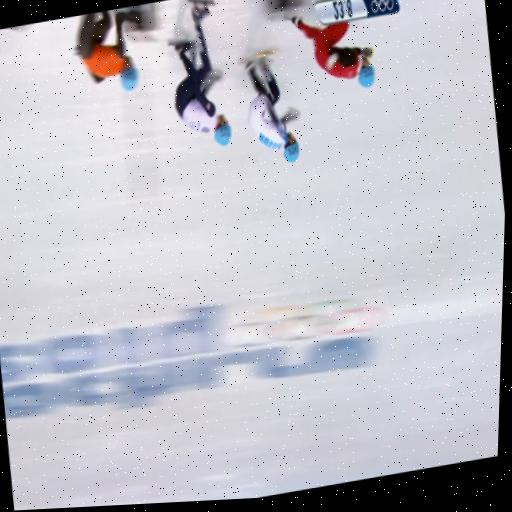Skater: (169, 0, 231, 145), (288, 16, 374, 86), (245, 50, 299, 161), (76, 9, 144, 89)
